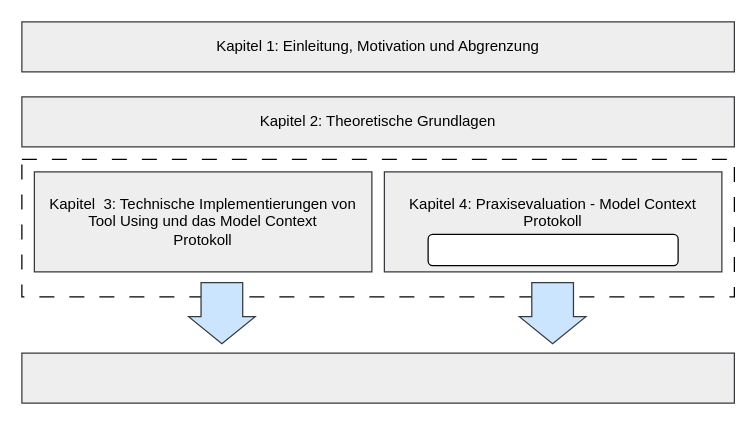
This 756x425 diagram has some shape labels left out. The centre of each missing label's shape, as x and y in pixels:
"Kapitel 5: Fazit, Erkenntnisse und Handlugnsempehlung" goes at (x=377, y=377).
"Unternehmensbezug SICK AG" goes at (x=552, y=249).
